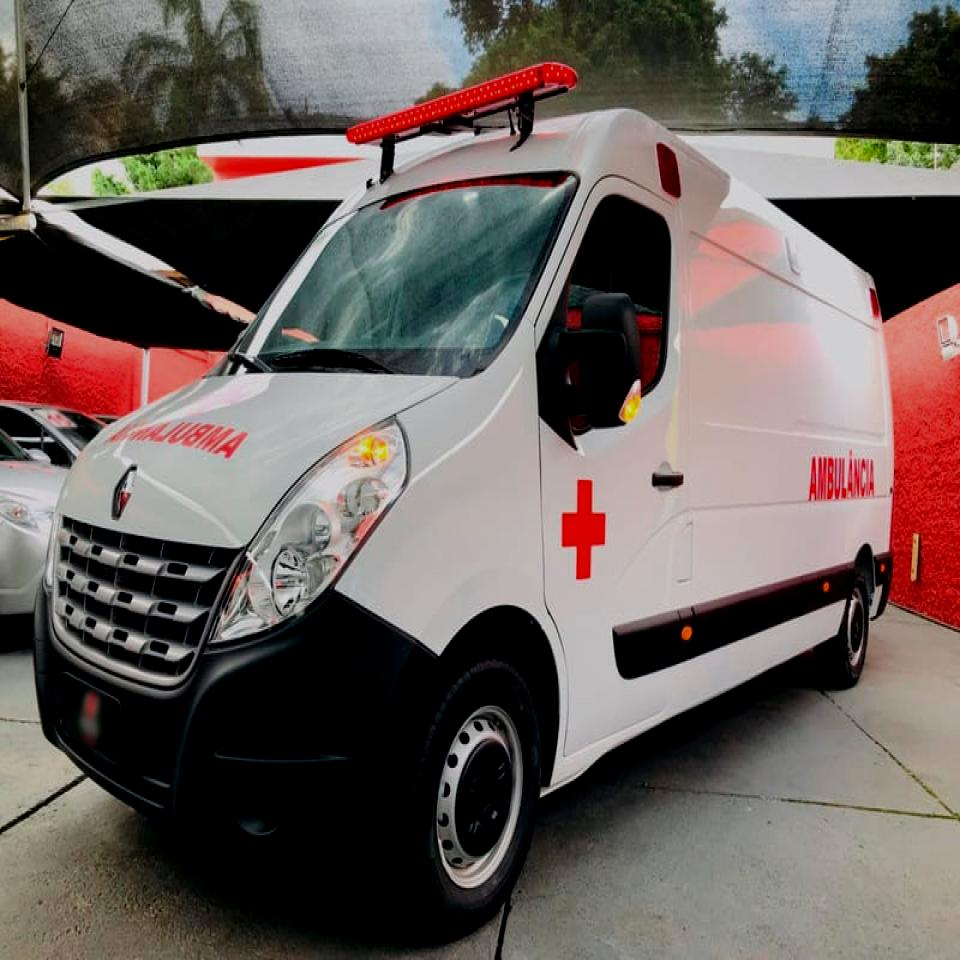ambulancia: (32, 61, 895, 940)
